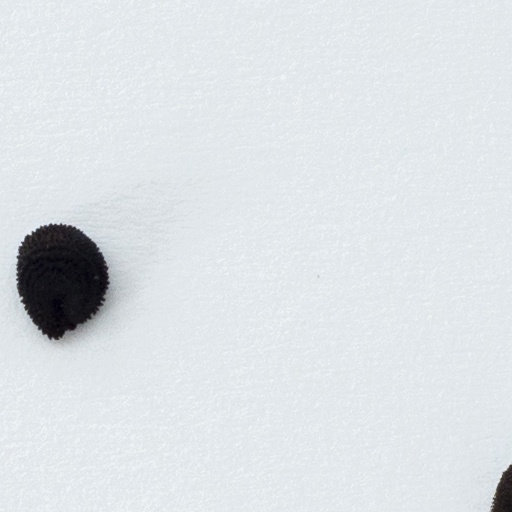Agrostemma: (12, 217, 112, 348), (485, 456, 511, 511)
